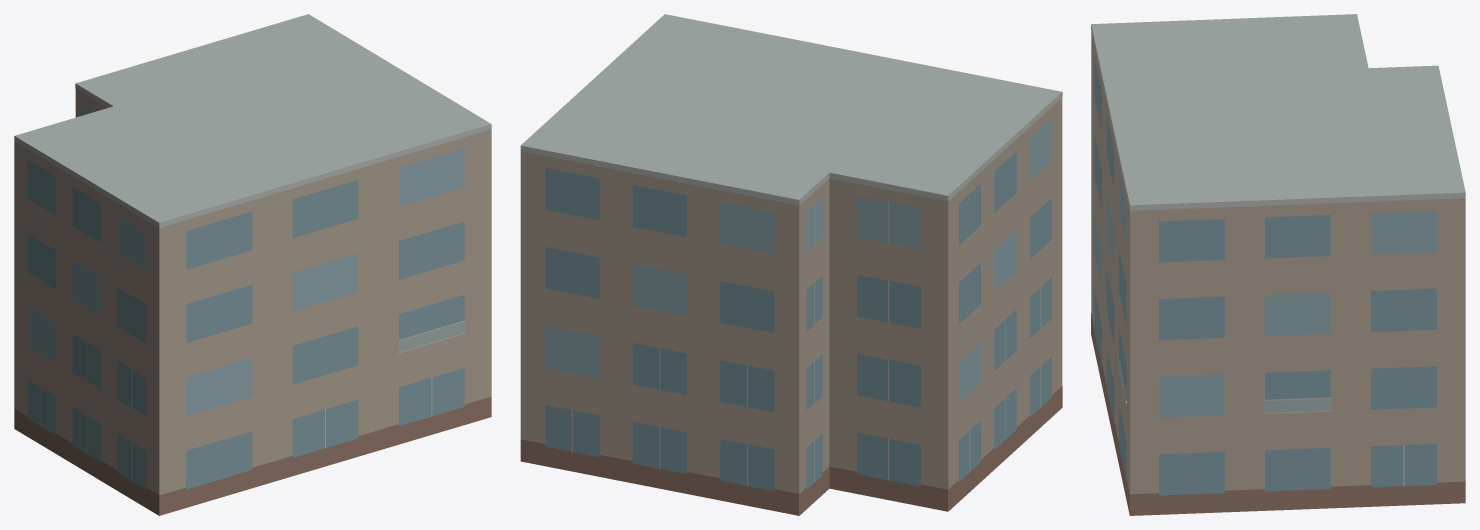
Rendered from survey-upis-32757661.glb.
The picture shows the model from 3 angles, left to right: view 1: azimuth 30°, elevation 25°; view 2: azimuth 150°, elevation 25°; view 3: azimuth 270°, elevation 25°; orthographic projection. The views are drawn at different scales.
Visible parts, largest first — view 1: survey-upis-32757661.tmp; view 2: survey-upis-32757661.tmp; view 3: survey-upis-32757661.tmp.
Part boxes in pixels (<box>): survey-upis-32757661.tmp: <box>14,14,491,515</box>; survey-upis-32757661.tmp: <box>520,14,1062,515</box>; survey-upis-32757661.tmp: <box>1091,14,1465,515</box>.
Bounding box in the file's own units: 18.11 × 13.7 × 14.99.
